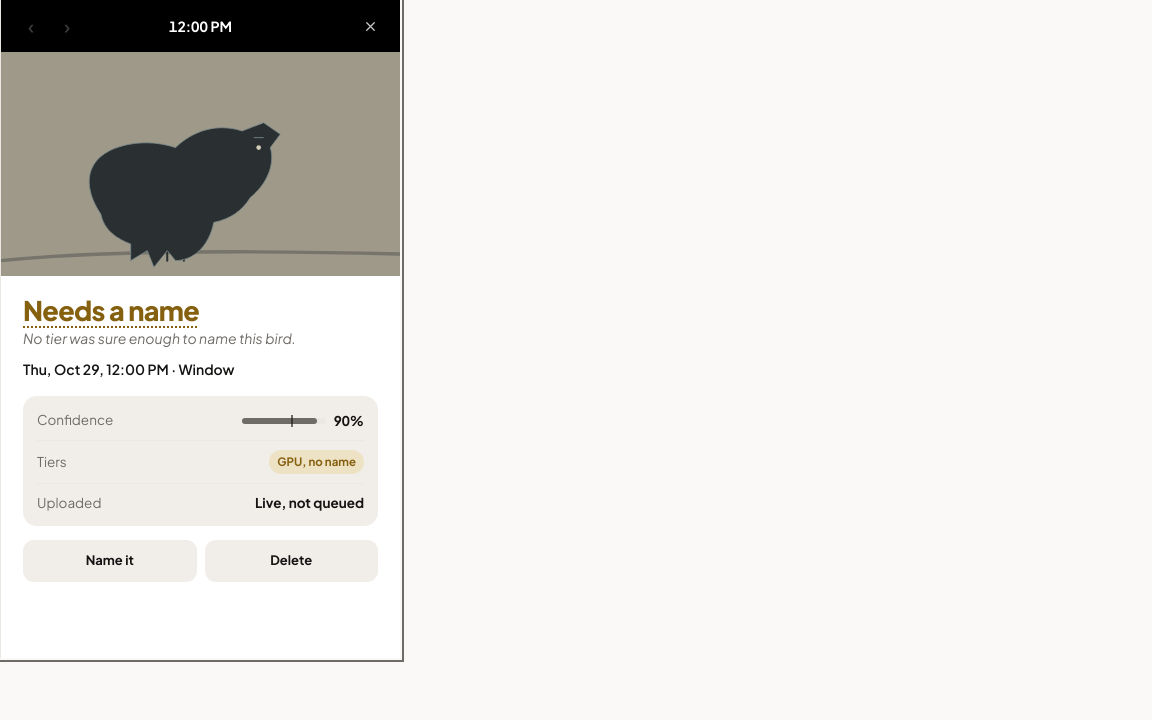
Scenario: species picker › opens from the 'Needs a name' title
Click the button "Needs a name".
click(111, 311)  # box [23,296,199,326]
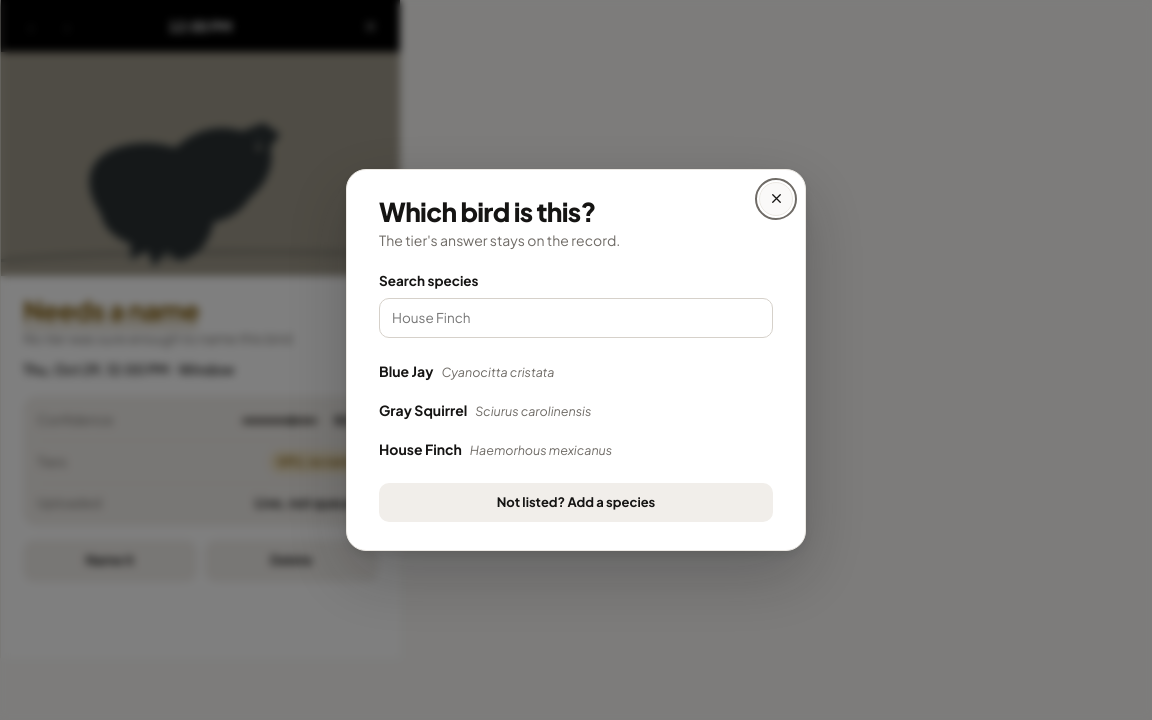
Expected: the heading "Which bird is this?" is shown, [379,195,596,228]
